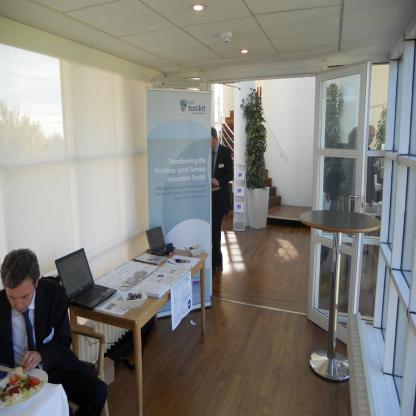board: (35, 247, 113, 334), (146, 225, 174, 255)
